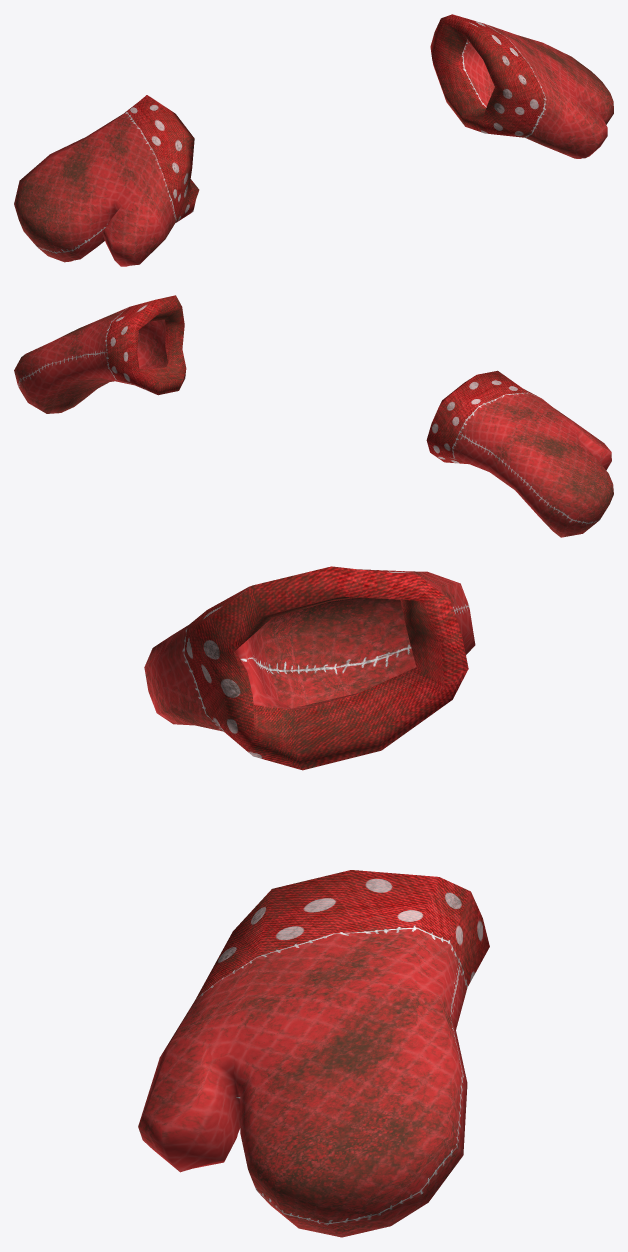
File: HANDS_CHIBI_COOKING_GLOVES.fbx
3 views of the same model, one above another, from view 1: azimuth 30°, elevation 25°; view 2: azimuth 150°, elevation 25°; view 3: azimuth 270°, elevation 25° (orthographic). The views are drawn at different scales.
Parts seen in each view (by area): view 1: HANDS_CHIBI_COOKING_GLOVE_RIGHT, HANDS_CHIBI_COOKING_GLOVE_LEFT; view 2: HANDS_CHIBI_COOKING_GLOVE_RIGHT, HANDS_CHIBI_COOKING_GLOVE_LEFT; view 3: HANDS_CHIBI_COOKING_GLOVE_LEFT, HANDS_CHIBI_COOKING_GLOVE_RIGHT.
Boxes of the visible parts, x1,y1,x2,y2 form: HANDS_CHIBI_COOKING_GLOVE_RIGHT: [14, 95, 199, 266]; HANDS_CHIBI_COOKING_GLOVE_LEFT: [430, 14, 613, 158]; HANDS_CHIBI_COOKING_GLOVE_RIGHT: [426, 370, 613, 537]; HANDS_CHIBI_COOKING_GLOVE_LEFT: [14, 295, 186, 413]; HANDS_CHIBI_COOKING_GLOVE_LEFT: [138, 870, 489, 1237]; HANDS_CHIBI_COOKING_GLOVE_RIGHT: [144, 566, 475, 770].
Size of the model in its own units: 0.1317 by 0.0294 by 0.0348.
